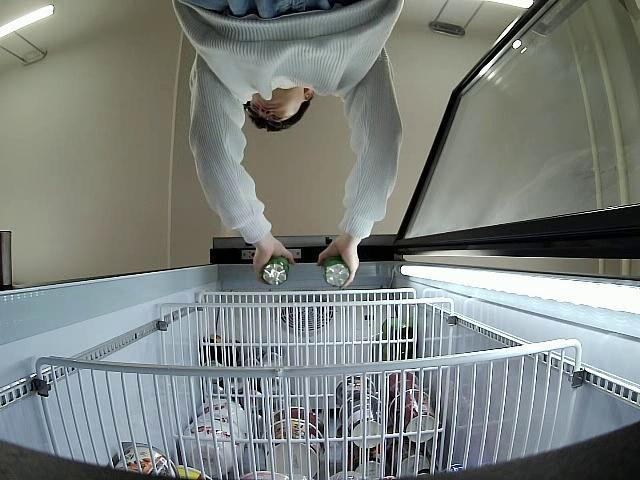18_trevi: (262, 258, 290, 287), (324, 257, 351, 287)
